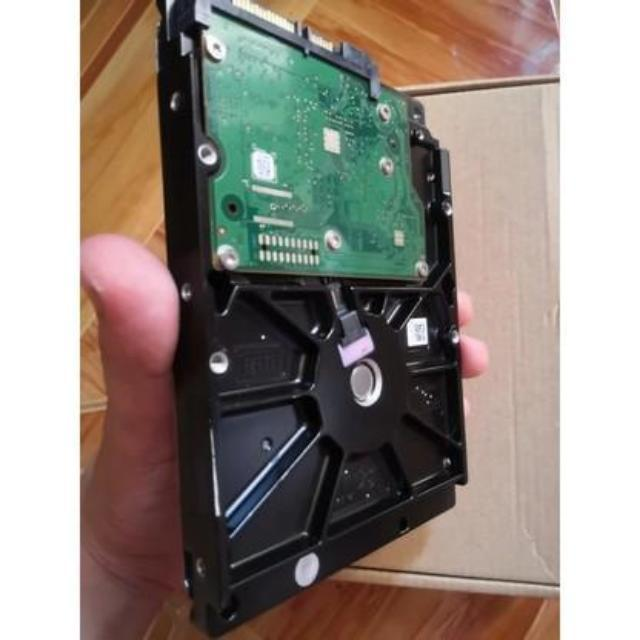DISK: (162, 0, 474, 618)
